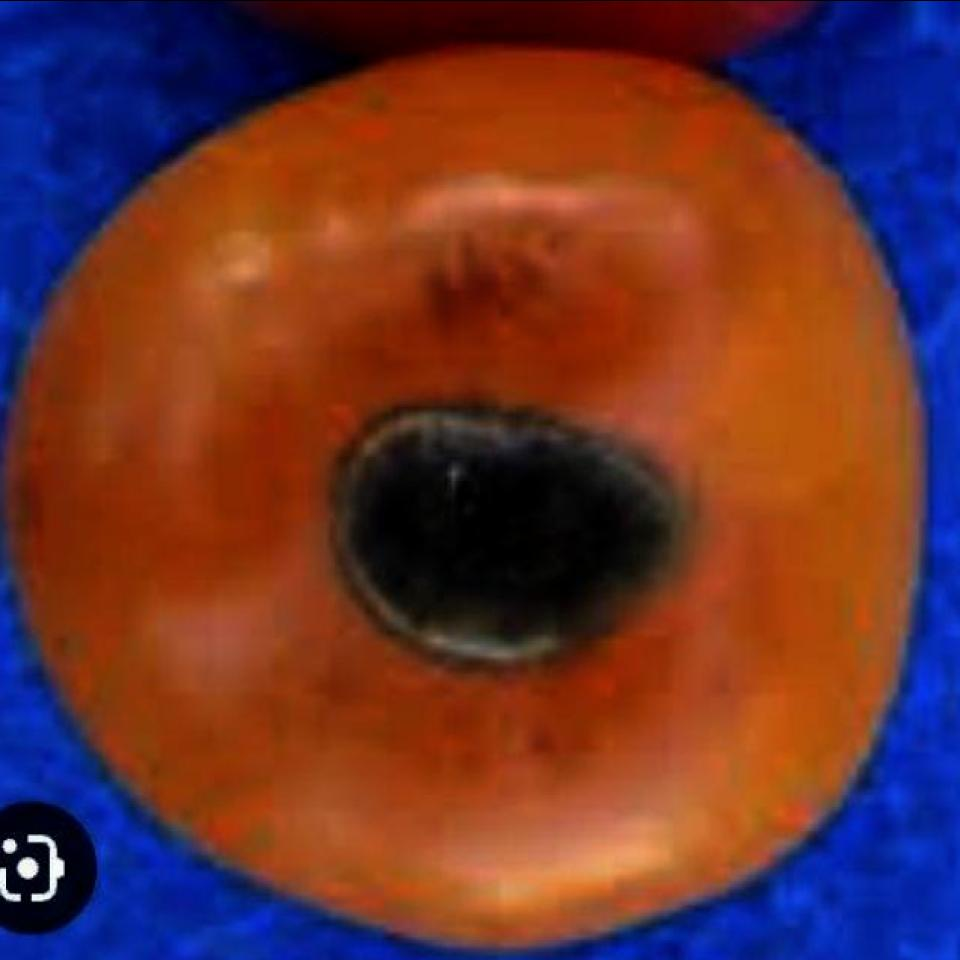Blossom_end_rot: (344, 394, 702, 676)
